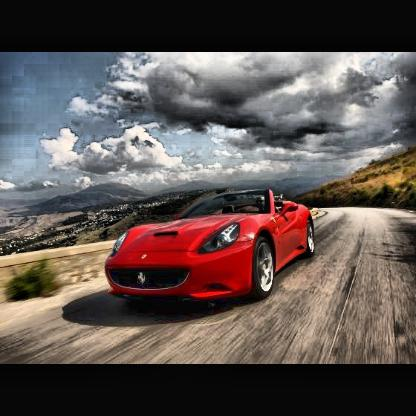Ferrari California Convertible 2012: (105, 190, 315, 313)
